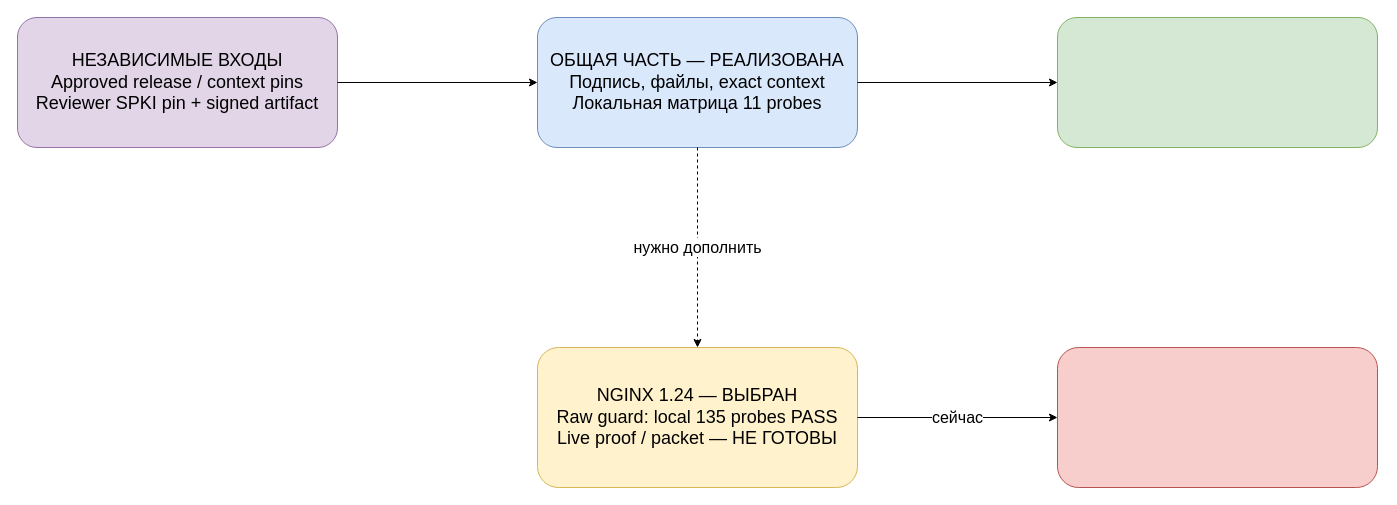
Some shapes in this 1397 by 505 pixel diagram are drawn without their labels. The centre of each missing label's shape, as x and y in pixels:
"БЕЗУСЛОВНЫЙ STOP UNSUPPORTED_INGRESS_ADAPTER Боевой ingress не меняется" goes at pixel 1217 417.
"ТОЛЬКО ЛОКАЛЬНЫЙ РЕЗУЛЬТАТ NOT_LIVE_PROOF deploy / activation = false" goes at pixel 1217 82.
